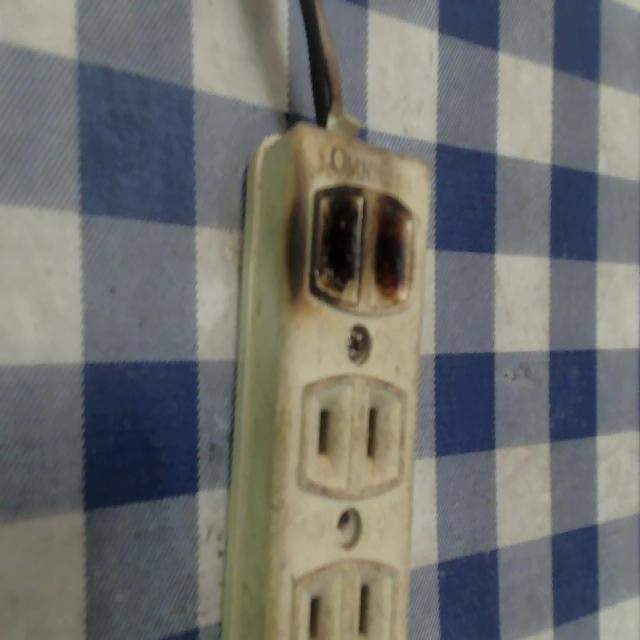-: (295, 167, 422, 325)
